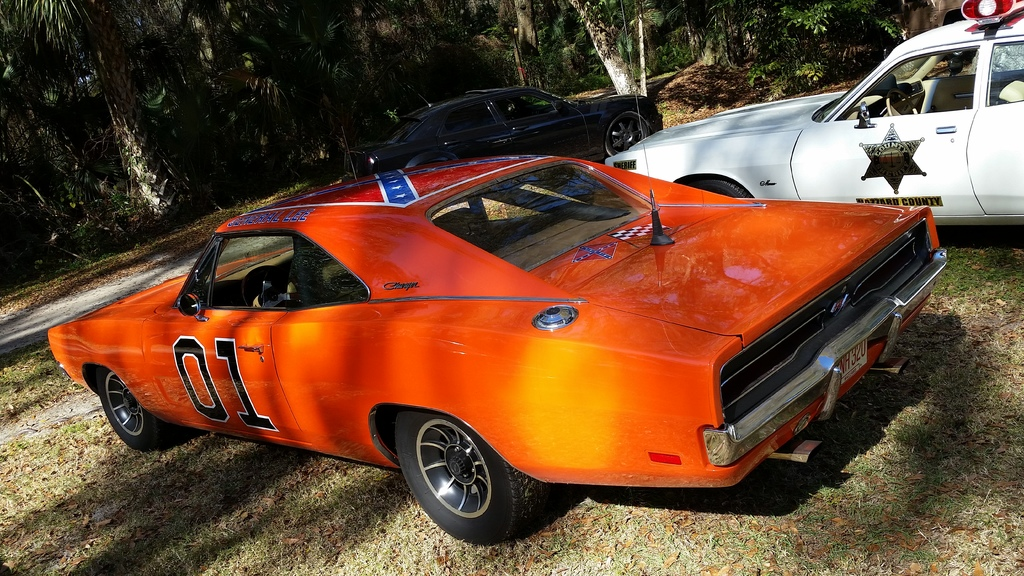cars: (81, 123, 905, 533), (605, 0, 1023, 234), (323, 88, 664, 175)
